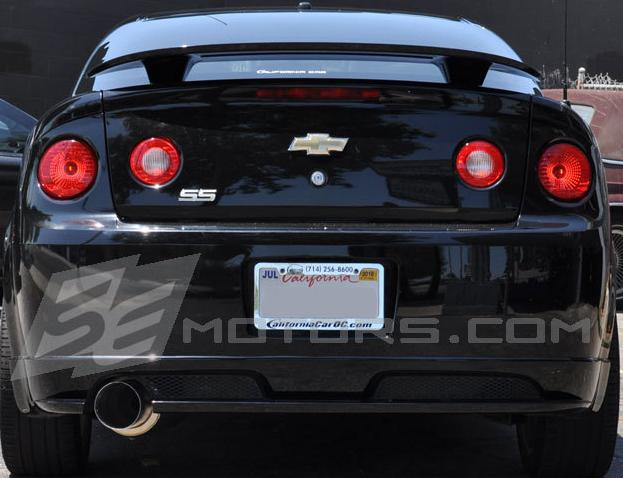back_view: (22, 78, 611, 422)
backlight: (32, 123, 200, 213)
